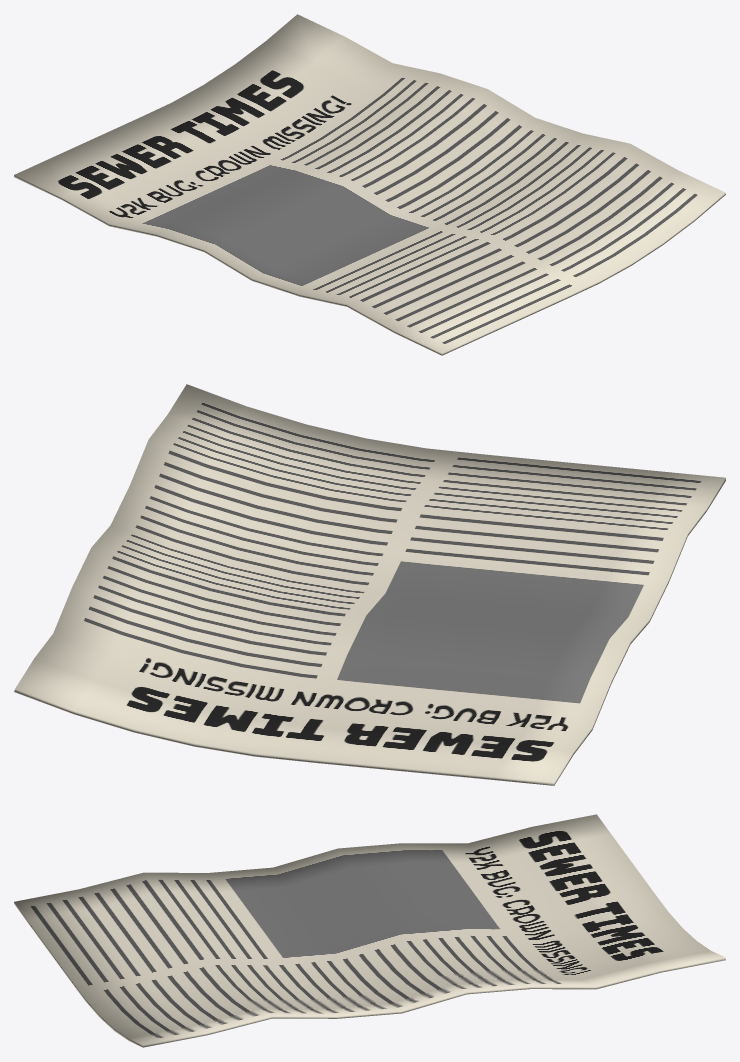
Rendered from Trash_Newspaper.fbx.
3 renders of one model, top to bottom at view 1: azimuth 30°, elevation 25°; view 2: azimuth 150°, elevation 25°; view 3: azimuth 270°, elevation 25°, orthographic. The views are drawn at different scales.
Parts seen in each view (by area): view 1: Trash_Newspaper; view 2: Trash_Newspaper; view 3: Trash_Newspaper.
Part boxes in pixels (x1,y1,x2,y2): Trash_Newspaper: (14, 14, 725, 355); Trash_Newspaper: (14, 384, 725, 785); Trash_Newspaper: (14, 814, 725, 1047).
Bounding box in the file's own units: 0.8225 × 0.074 × 0.9804.
Materials: 1 (1 with a texture image).
